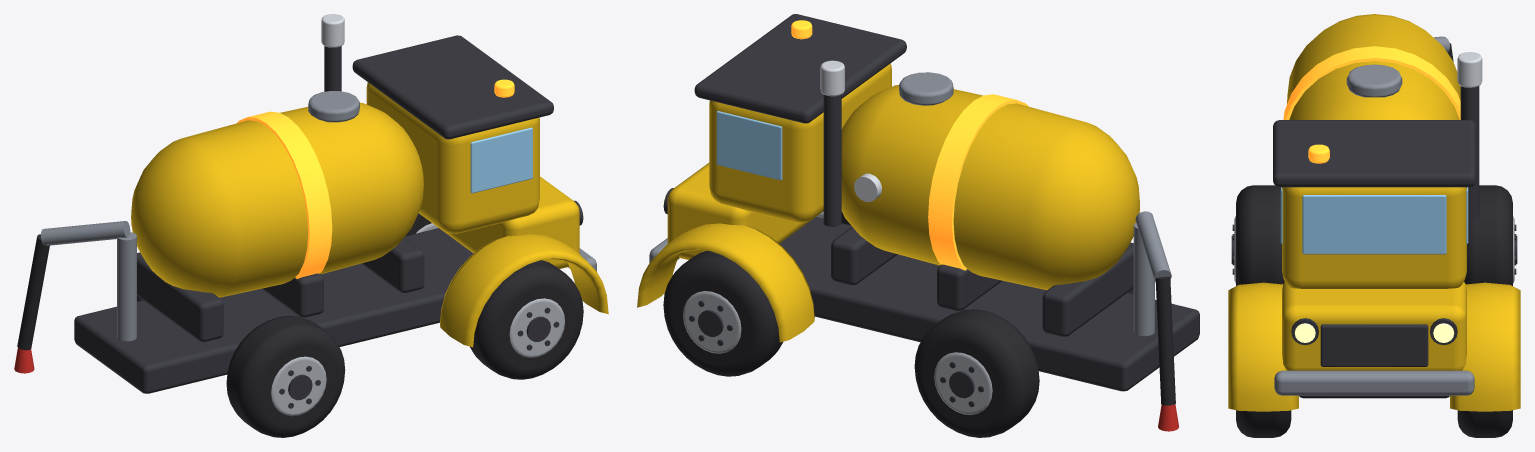
File: vehicle_charging_truck_t2.glb
3 renders of one model, left to right at view 1: azimuth 30°, elevation 25°; view 2: azimuth 150°, elevation 25°; view 3: azimuth 270°, elevation 25°, orthographic. The views are drawn at different scales.
Parts seen in each view (by area): view 1: Tank, Chassis, Cab.Roof, Cab.Shell, WheelRR.Tyre, WheelFR.Tyre, Fender, Tank.Band, Hood, Tank.Saddle, Cab.SideWindow, Boom.Post (+9 smaller); view 2: Tank, Chassis, Cab.Roof, WheelRL.Tyre, Cab.Shell, WheelFL.Tyre, Fender.001, Tank.Band, Hood, Tank.Saddle, Cab.SideWindow.001, Exhaust.Pipe (+12 smaller); view 3: Cab.Roof, Tank, Cab.Shell, Hood, Cab.Windshield, Fender, Fender.001, Bumper, Grille, WheelRR.Tyre, WheelRL.Tyre, Tank.Band (+11 smaller).
Part boxes in pixels (x1,y1,x2,y2): Tank: (131,102,423,297); Chassis: (74,228,473,393); Cab.Roof: (352,35,553,139); Cab.Shell: (366,82,539,233); WheelRR.Tyre: (226,315,345,437); WheelFR.Tyre: (470,260,583,379); Fender: (440,234,608,347); Tank.Band: (236,111,332,278); Hood: (443,176,579,268); Tank.Saddle: (137,252,223,341); Cab.SideWindow: (470,127,532,193); Boom.Post: (117,232,136,341); Tank: (841,85,1139,290); Chassis: (779,217,1199,391); Cab.Roof: (694,14,906,123); WheelRL.Tyre: (914,309,1039,437); Cab.Shell: (709,63,891,222); WheelFL.Tyre: (663,250,782,376); Fender.001: (637,223,814,342); Tank.Band: (928,94,1028,270); Hood: (667,163,811,259); Tank.Saddle: (1042,242,1133,336); Cab.SideWindow.001: (716,111,782,180); Exhaust.Pipe: (823,94,841,226); Cab.Roof: (1273,120,1475,187); Tank: (1287,14,1460,119); Cab.Shell: (1282,187,1466,288); Hood: (1282,282,1466,370); Cab.Windshield: (1302,195,1446,254); Fender: (1228,282,1298,411); Fender.001: (1450,282,1520,411); Bumper: (1274,370,1474,395); Grille: (1320,324,1428,366); WheelRR.Tyre: (1236,185,1284,285); WheelRL.Tyre: (1464,185,1512,285); Tank.Band: (1283,46,1460,119).
Size of the model in its own units: 3.96 by 2.34 by 1.9.
